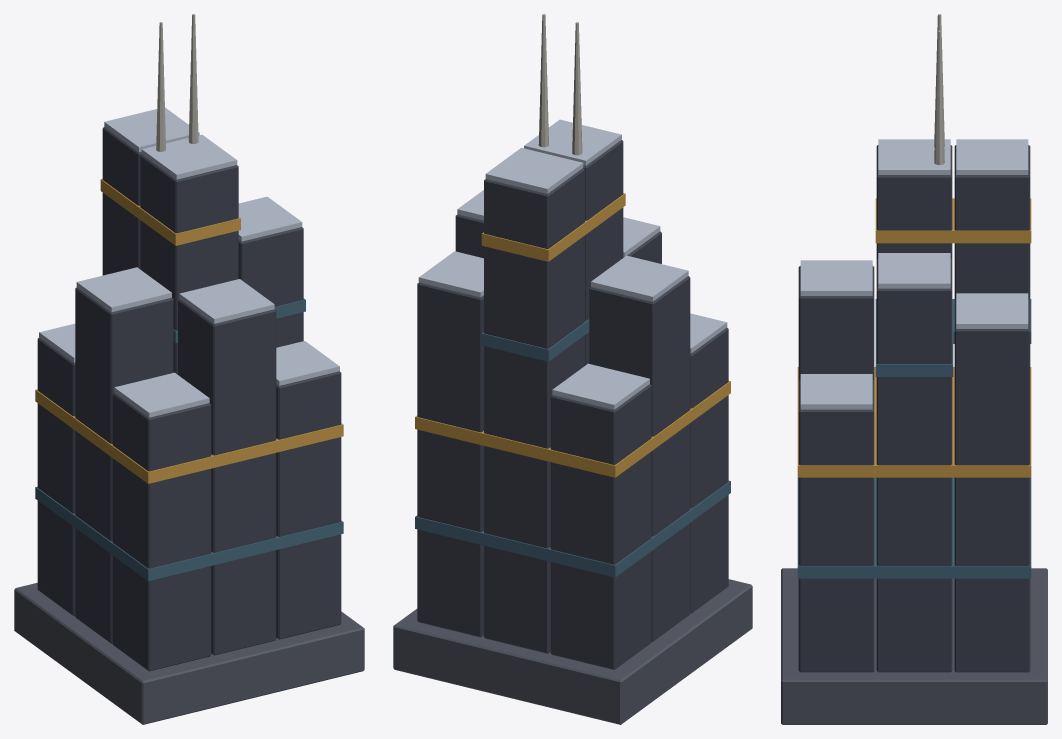
Rendered from Stylized_Landmark_SearsTower.fbx.
3 renders of one model, left to right at view 1: azimuth 30°, elevation 25°; view 2: azimuth 150°, elevation 25°; view 3: azimuth 270°, elevation 25°, orthographic. The views are drawn at different scales.
Parts seen in each view (by area): view 1: Stylized_Landmark_SearsTower; view 2: Stylized_Landmark_SearsTower; view 3: Stylized_Landmark_SearsTower.
Boxes of the visible parts, x1,y1,x2,y2 form: Stylized_Landmark_SearsTower: (14, 14, 364, 724); Stylized_Landmark_SearsTower: (393, 14, 752, 724); Stylized_Landmark_SearsTower: (781, 14, 1047, 724).
Size of the model in its own units: 4.8 by 12.82 by 4.8.
